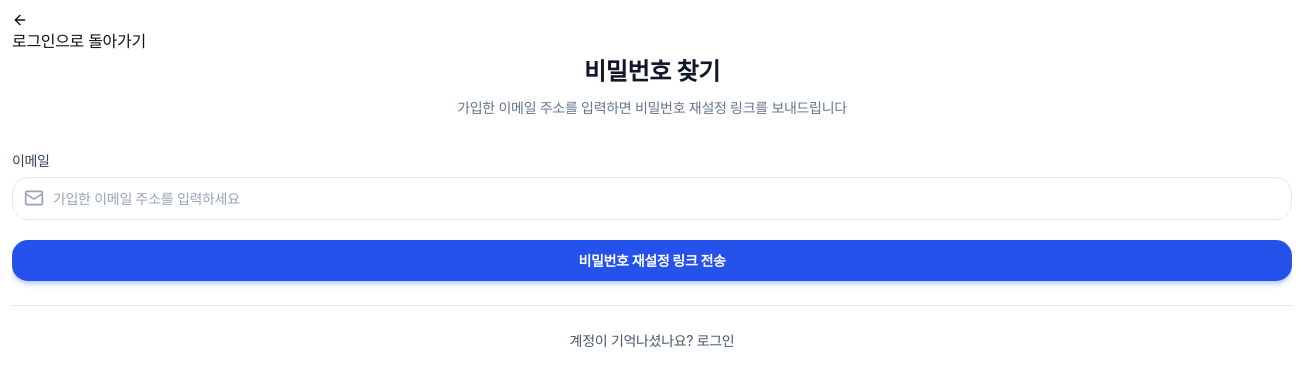
ForgotPasswordForm › 유효성 검사 › 빈 이메일 제출 시 에러 메시지를 표시한다
This screenshot has width=1304, height=388.
Click the button "비밀번호 재설정 링크 전송".
click(652, 260)  # box [12, 240, 1292, 281]
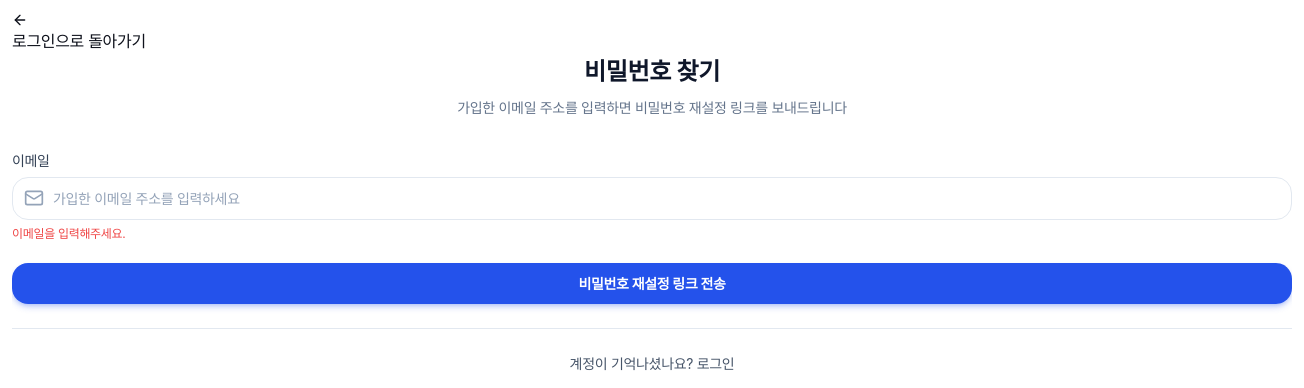
expect the text "이메일을 입력해주세요." is shown: met, box [12, 226, 125, 241]
